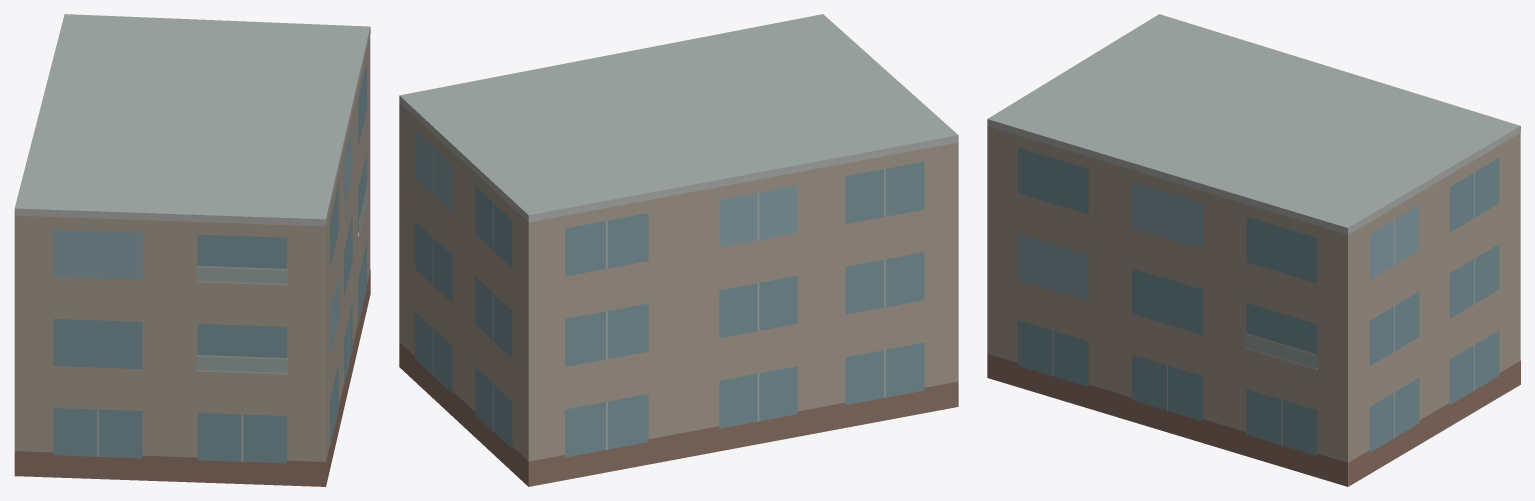
Rendered from survey-upis-32705821.glb.
3 renders of one model, left to right at view 1: azimuth 30°, elevation 25°; view 2: azimuth 150°, elevation 25°; view 3: azimuth 270°, elevation 25°, orthographic. The views are drawn at different scales.
Visible parts, largest first — view 1: survey-upis-32705821.tmp; view 2: survey-upis-32705821.tmp; view 3: survey-upis-32705821.tmp.
Boxes of the visible parts, x1,y1,x2,y2 form: survey-upis-32705821.tmp: (14,14,370,486); survey-upis-32705821.tmp: (399,14,958,486); survey-upis-32705821.tmp: (987,14,1520,486).
Size of the model in its own units: 16.24 by 9.15 by 17.1.
